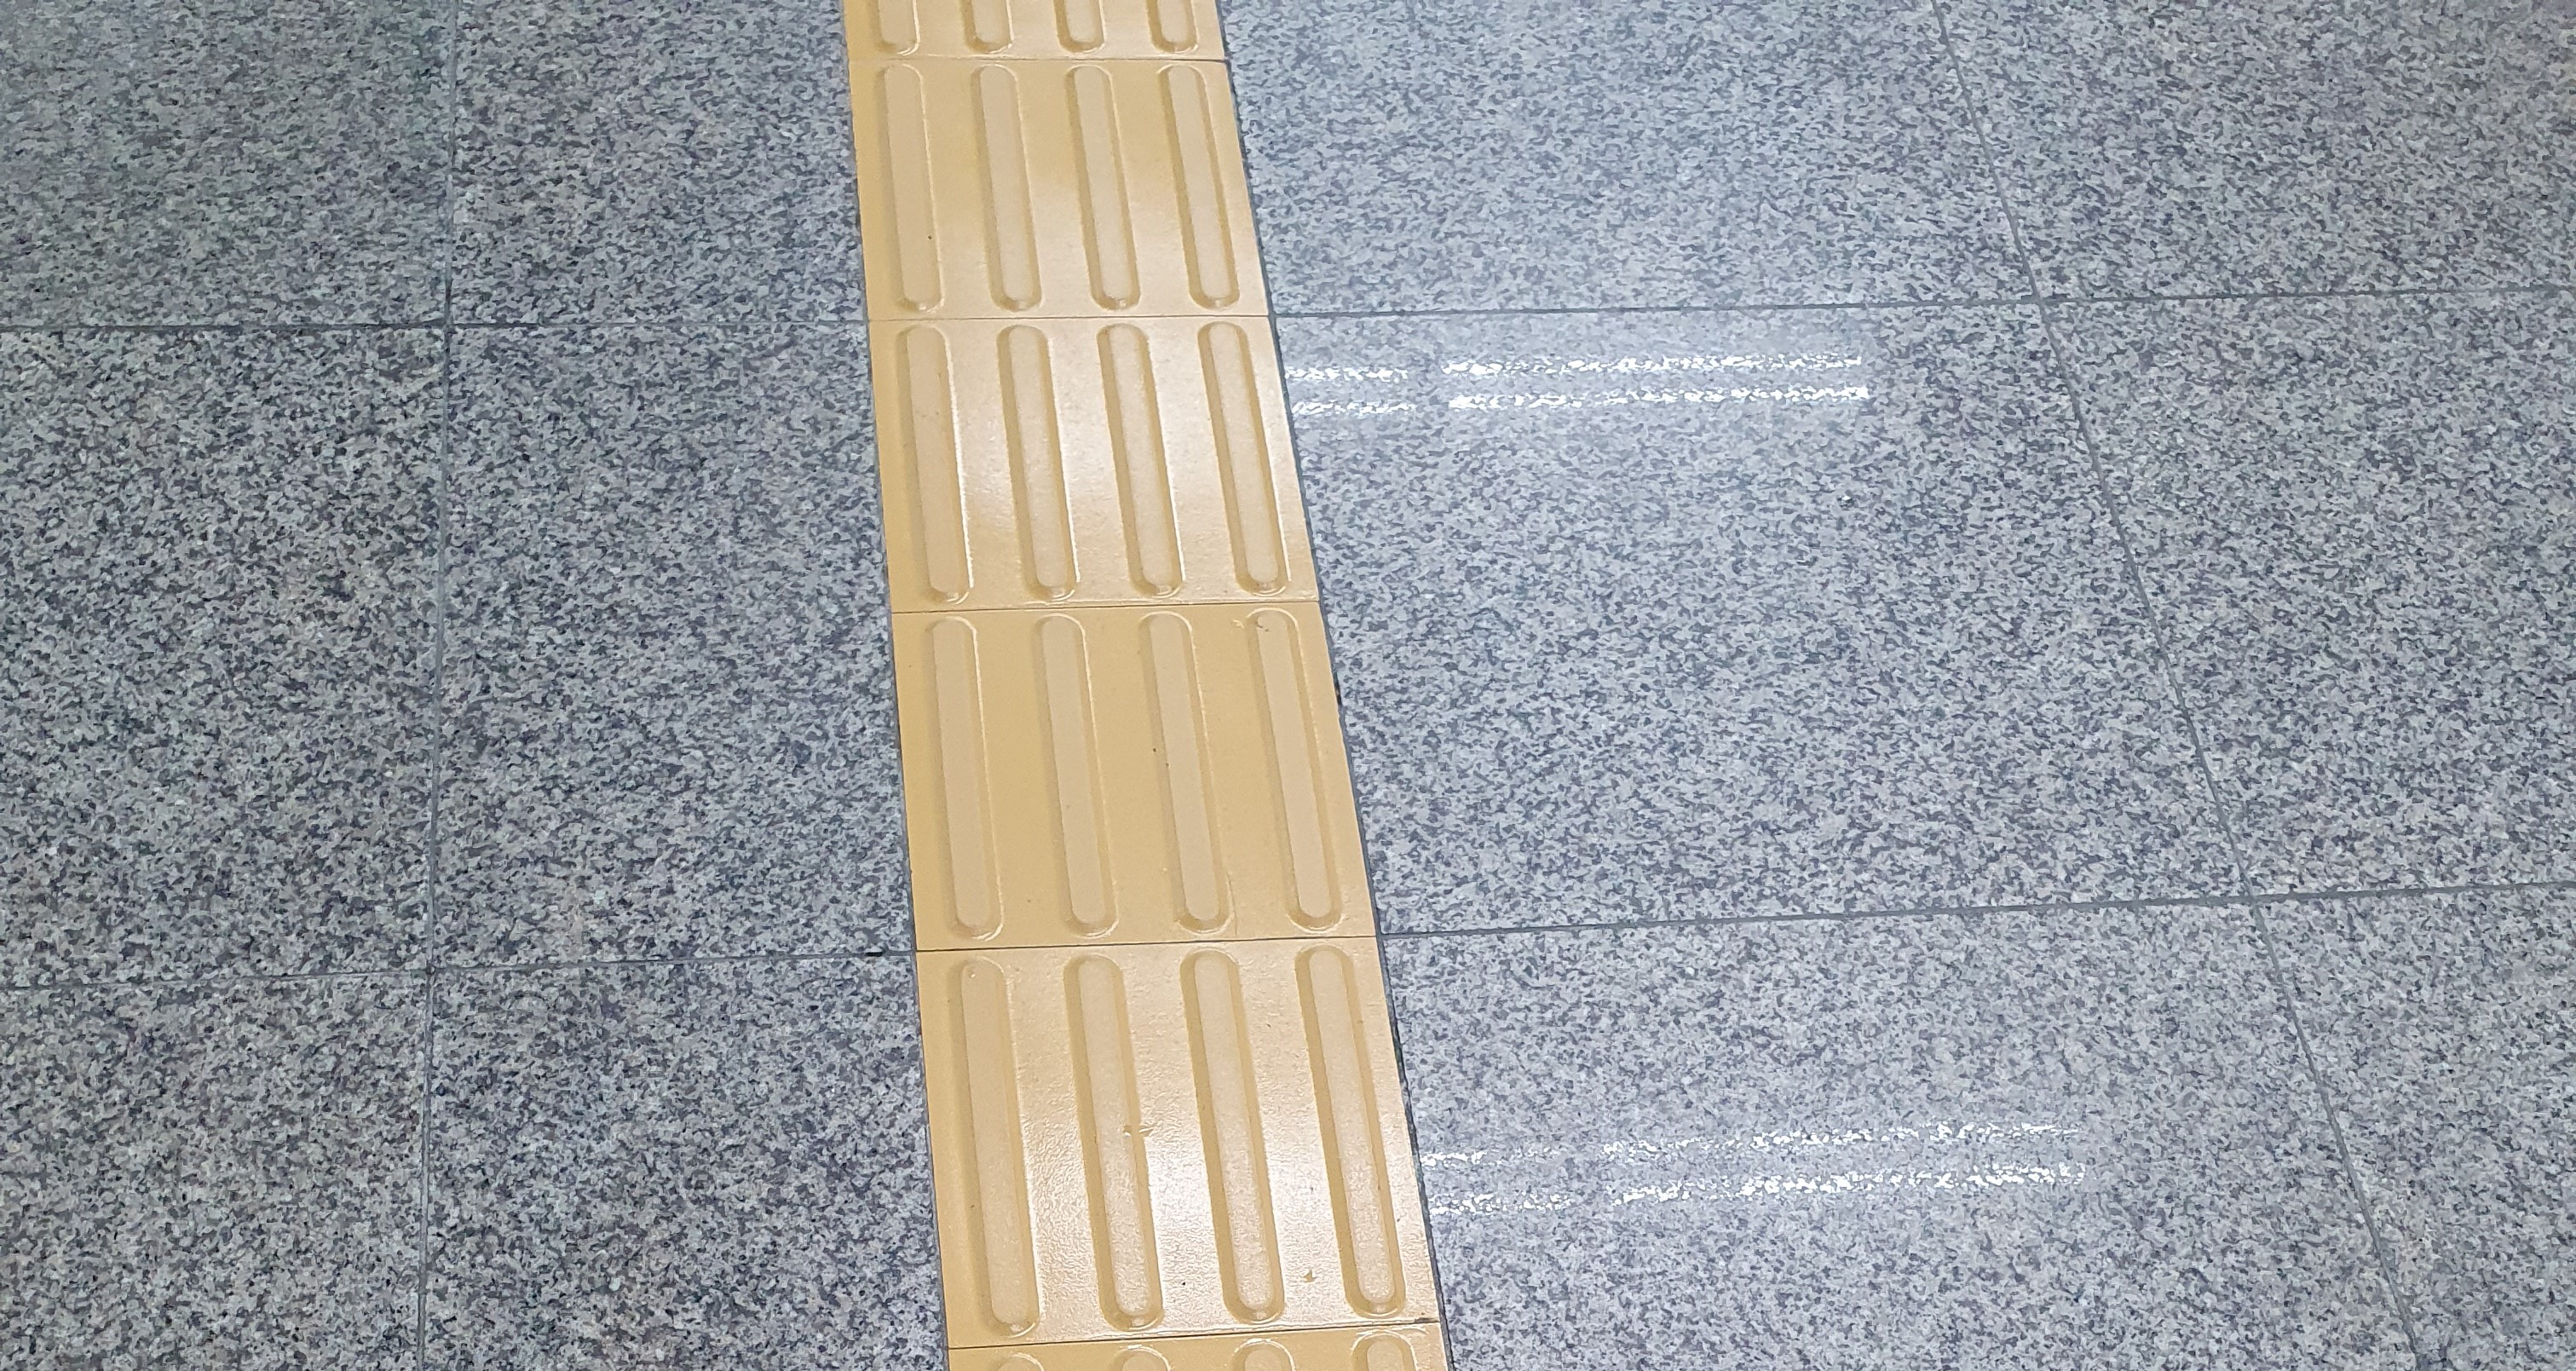guideBlock: (929, 954, 1417, 1320), (913, 605, 1353, 945), (879, 310, 1271, 598), (835, 46, 1239, 298)
